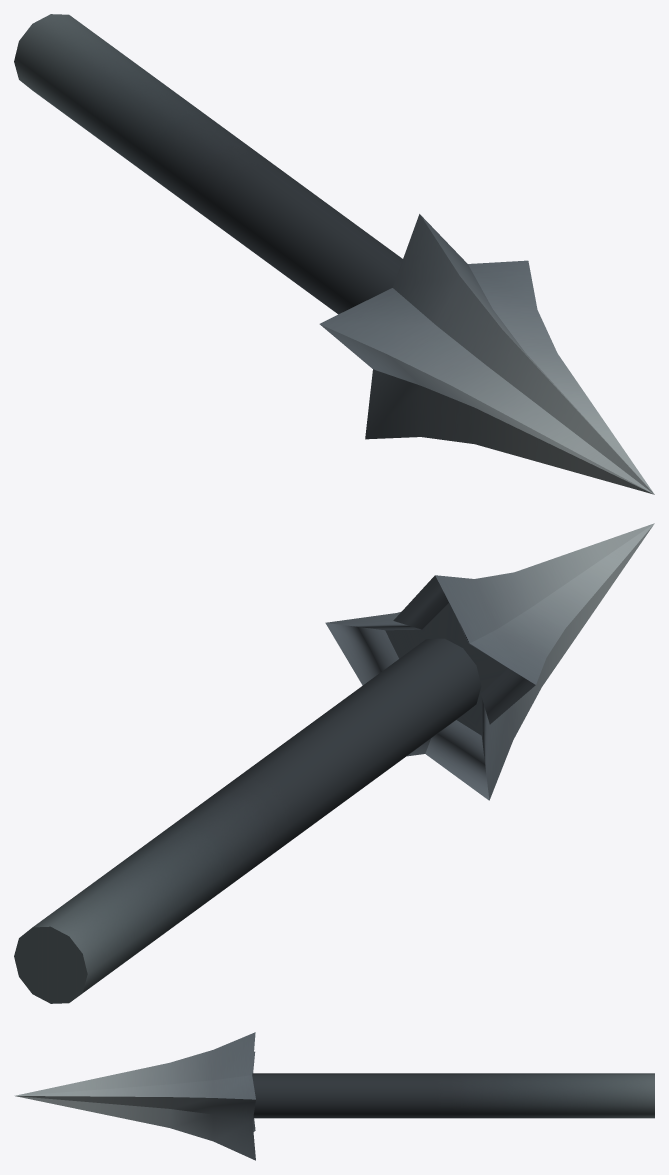
The model's file is Trap_Turret_Arrow.fbx.
3 renders of one model, top to bottom at view 1: azimuth 30°, elevation 25°; view 2: azimuth 150°, elevation 25°; view 3: azimuth 270°, elevation 25°, orthographic. The views are drawn at different scales.
Visible parts, largest first — view 1: Trap_Turret_Arrow; view 2: Trap_Turret_Arrow; view 3: Trap_Turret_Arrow.
Part boxes in pixels (x1,y1,x2,y2): Trap_Turret_Arrow: (14, 14, 654, 494); Trap_Turret_Arrow: (14, 523, 654, 1003); Trap_Turret_Arrow: (14, 1032, 654, 1160).
Size of the model in its own units: 0.5496 by 0.5314 by 2.74.
